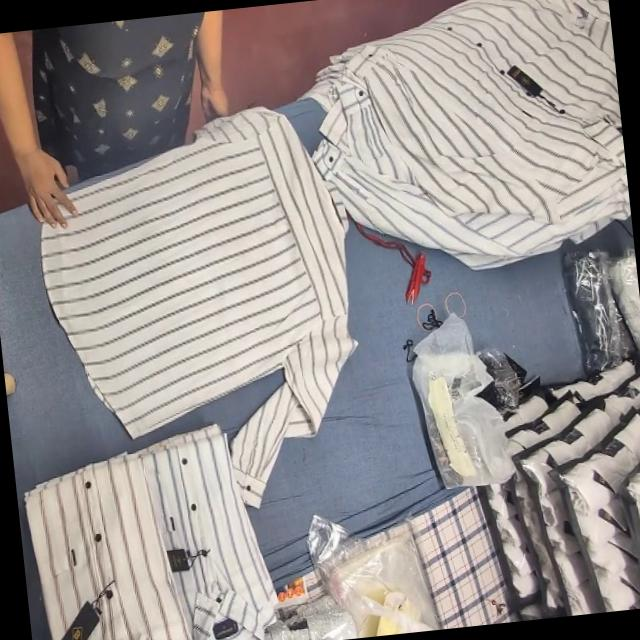new-garment: (42, 109, 354, 499)
